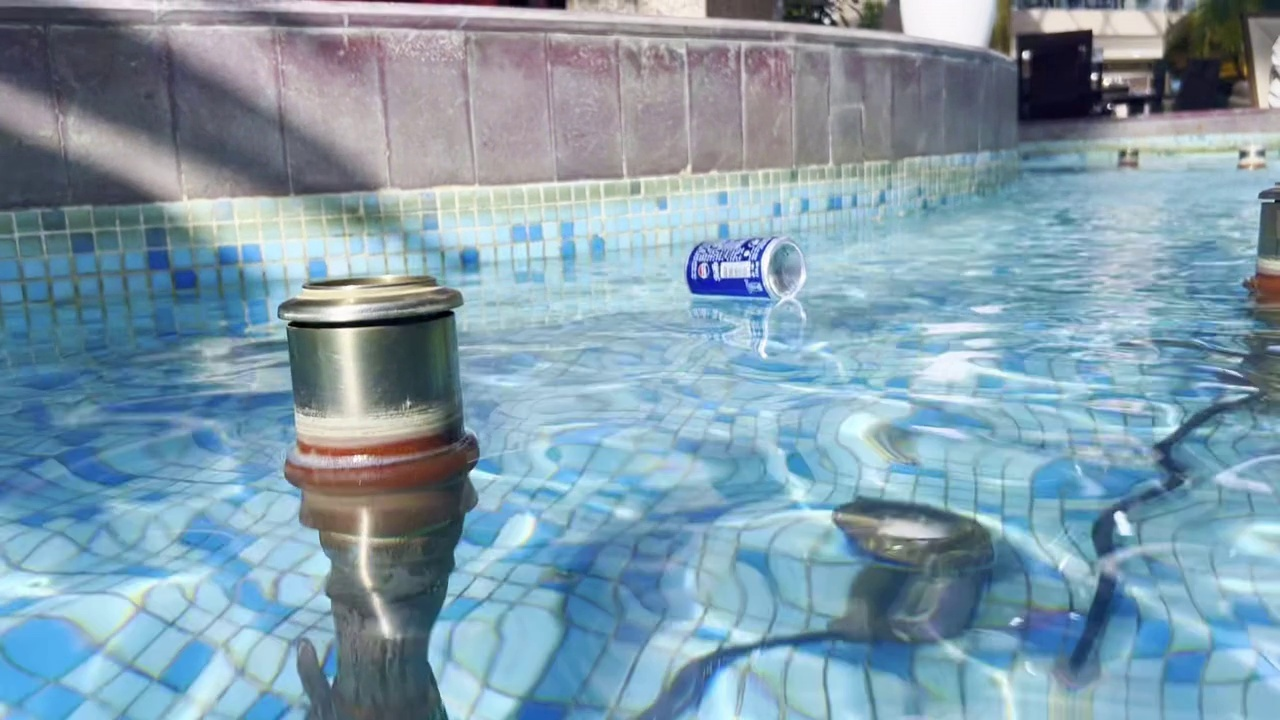debris: (684, 232, 809, 310)
